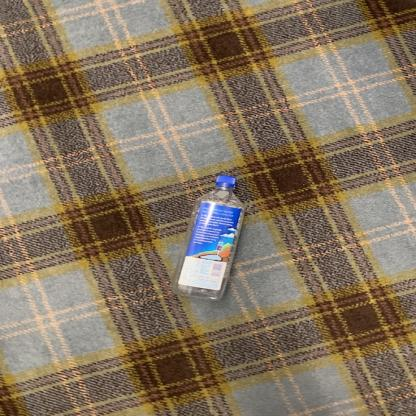trash: (166, 172, 249, 301)
